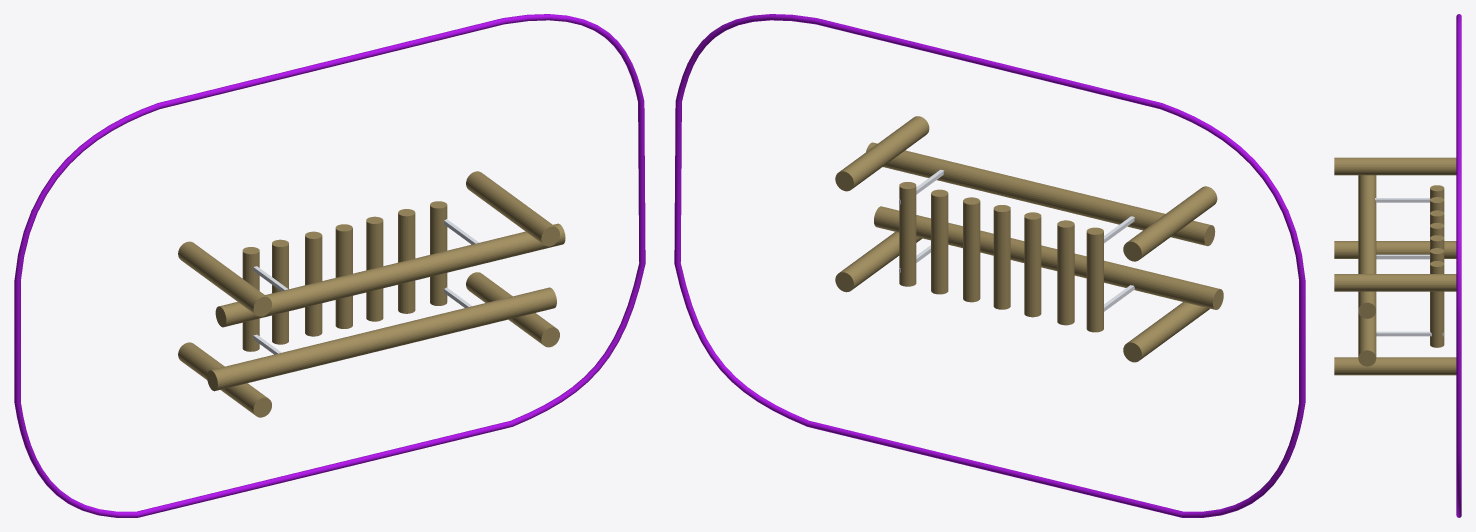
File: adanat-18310.glb
3 views of the same model, side by side, from view 1: azimuth 30°, elevation 25°; view 2: azimuth 150°, elevation 25°; view 3: azimuth 270°, elevation 25° (orthographic). The views are drawn at different scales.
Parts seen in each view (by area): view 1: _outline.022, Cylinder.162, Cylinder.164, Cylinder.163, Cylinder.167, Cylinder.165, Cylinder.166, Cylinder.168; view 2: Cylinder.162, _outline.022, Cylinder.163, Cylinder.164, Cylinder.167, Cylinder.165, Cylinder.166, Cylinder.168; view 3: _outline.022, Cylinder.163, Cylinder.165, Cylinder.167, Cylinder.168, Cylinder.162, Cylinder.166, Cylinder.164, Cube.112, Cube.110, Cube.111.
Boxes of the visible parts, x1,y1,x2,y2 form: _outline.022: [14, 14, 645, 517]; Cylinder.162: [242, 201, 447, 351]; Cylinder.164: [207, 287, 556, 391]; Cylinder.163: [215, 223, 565, 327]; Cylinder.167: [466, 171, 559, 246]; Cylinder.165: [178, 241, 271, 316]; Cylinder.166: [178, 342, 271, 417]; Cylinder.168: [466, 272, 559, 347]; Cylinder.162: [899, 182, 1103, 332]; _outline.022: [674, 14, 1305, 517]; Cylinder.163: [866, 142, 1215, 246]; Cylinder.164: [874, 206, 1223, 309]; Cylinder.167: [835, 116, 929, 191]; Cylinder.165: [1123, 186, 1217, 261]; Cylinder.166: [1123, 302, 1209, 362]; Cylinder.168: [835, 232, 922, 292]; _outline.022: [1456, 14, 1461, 517]; Cylinder.163: [1358, 175, 1376, 318]; Cylinder.165: [1334, 157, 1456, 175]; Cylinder.167: [1334, 274, 1456, 291]; Cylinder.168: [1334, 357, 1456, 375]; Cylinder.162: [1430, 185, 1444, 347]; Cylinder.166: [1334, 241, 1456, 258]; Cylinder.164: [1358, 311, 1376, 366]; Cube.112: [1376, 331, 1443, 336]; Cube.110: [1376, 254, 1429, 259]; Cube.111: [1375, 198, 1429, 202].
Size of the model in its own units: 6.76 by 4.2 by 1.43.
